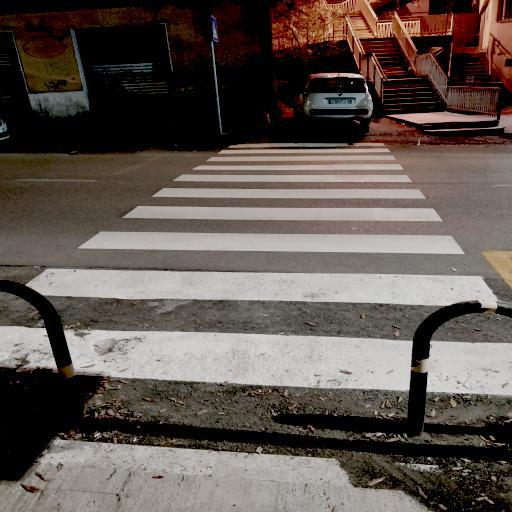crosswalk: (66, 202, 472, 259), (168, 162, 418, 187), (213, 140, 395, 154)
